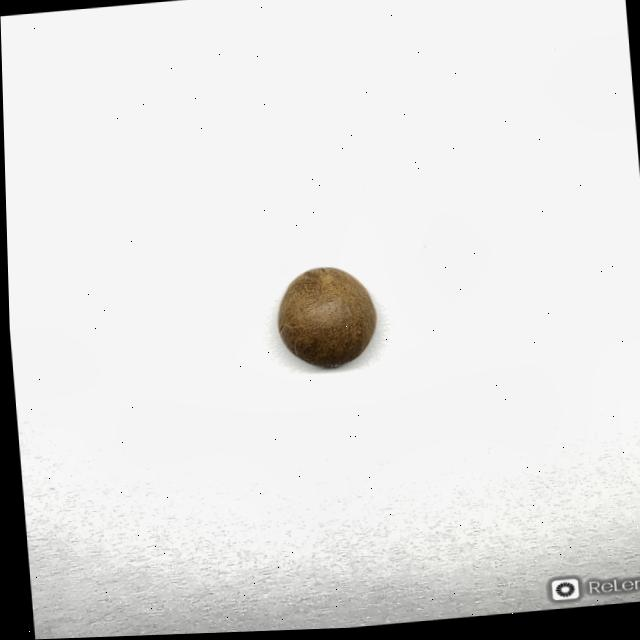Quaker: (270, 264, 379, 374)
